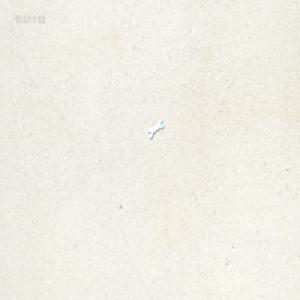Wrench: (147, 120, 164, 139)
